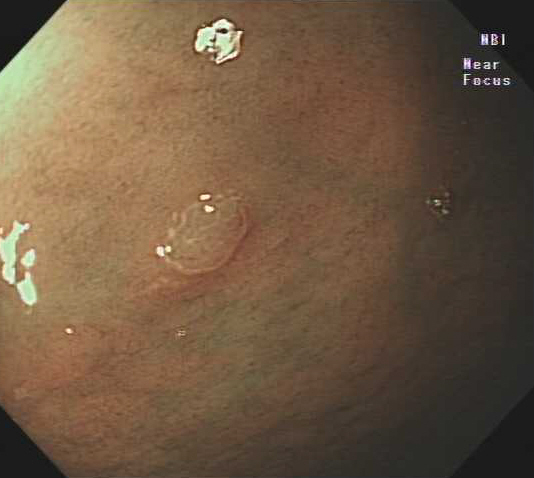others: (157, 190, 250, 278)
